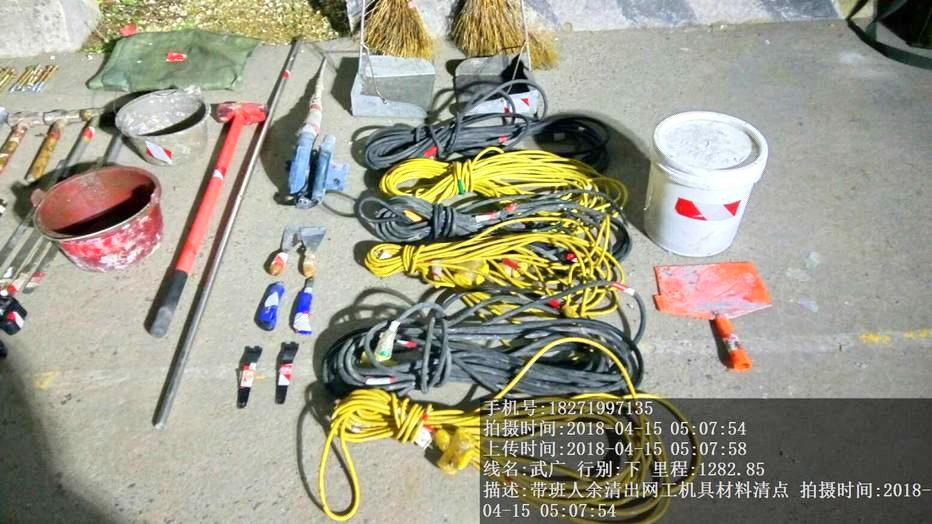SNT: (28, 168, 168, 273), (114, 87, 212, 163)
